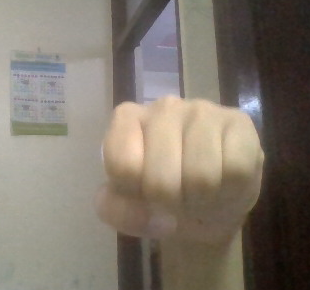click: (85, 97, 305, 255)
